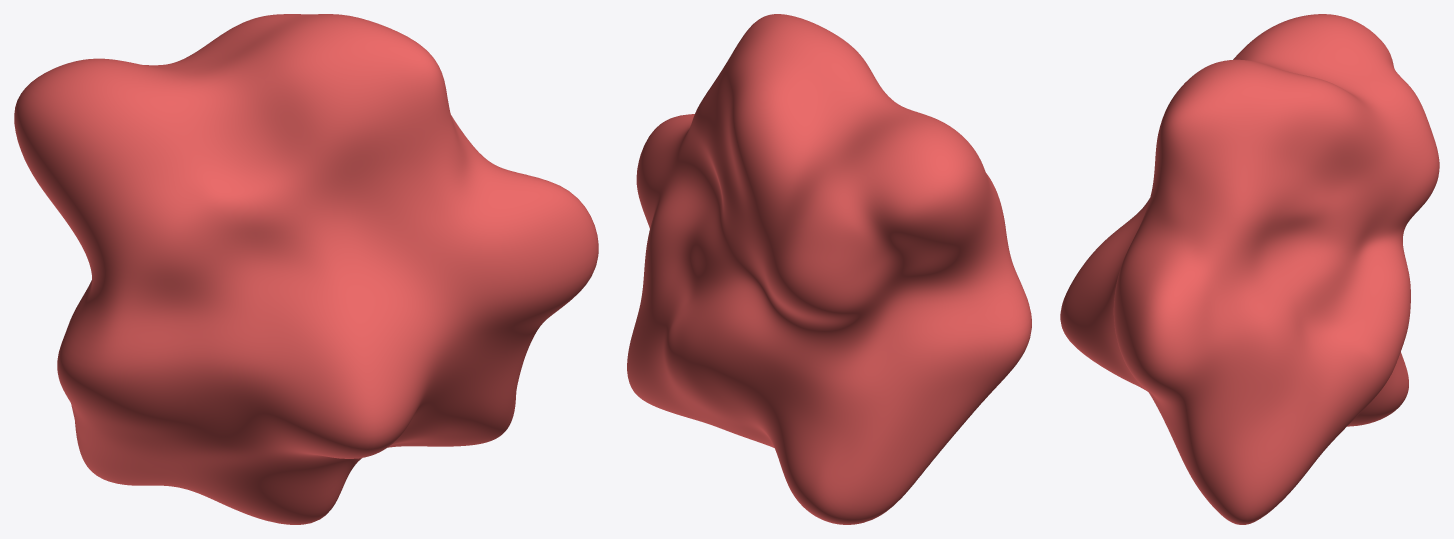
Rendered from Ligase.fbx.
The picture shows the model from 3 angles, left to right: view 1: azimuth 30°, elevation 25°; view 2: azimuth 150°, elevation 25°; view 3: azimuth 270°, elevation 25°; orthographic projection. The views are drawn at different scales.
Visible parts, largest first — view 1: Surface; view 2: Surface; view 3: Surface.
Boxes of the visible parts, x1,y1,x2,y2 form: Surface: (14,14,598,524); Surface: (627,14,1031,524); Surface: (1060,14,1439,524).
Bounding box in the file's own units: 466 × 451 × 371.
